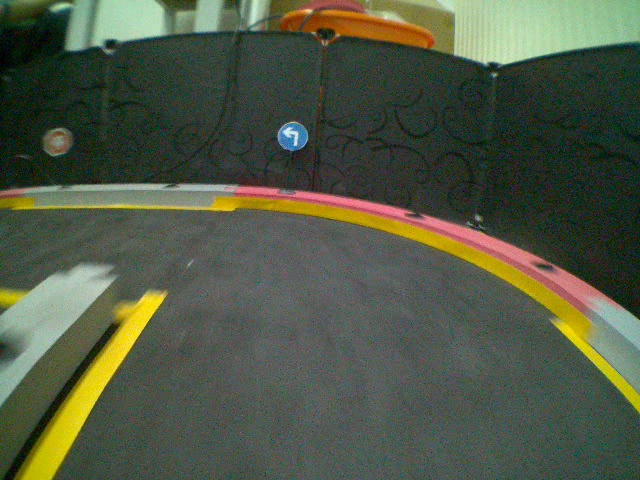Stop: (41, 127, 72, 158)
turn: (277, 120, 309, 153)
